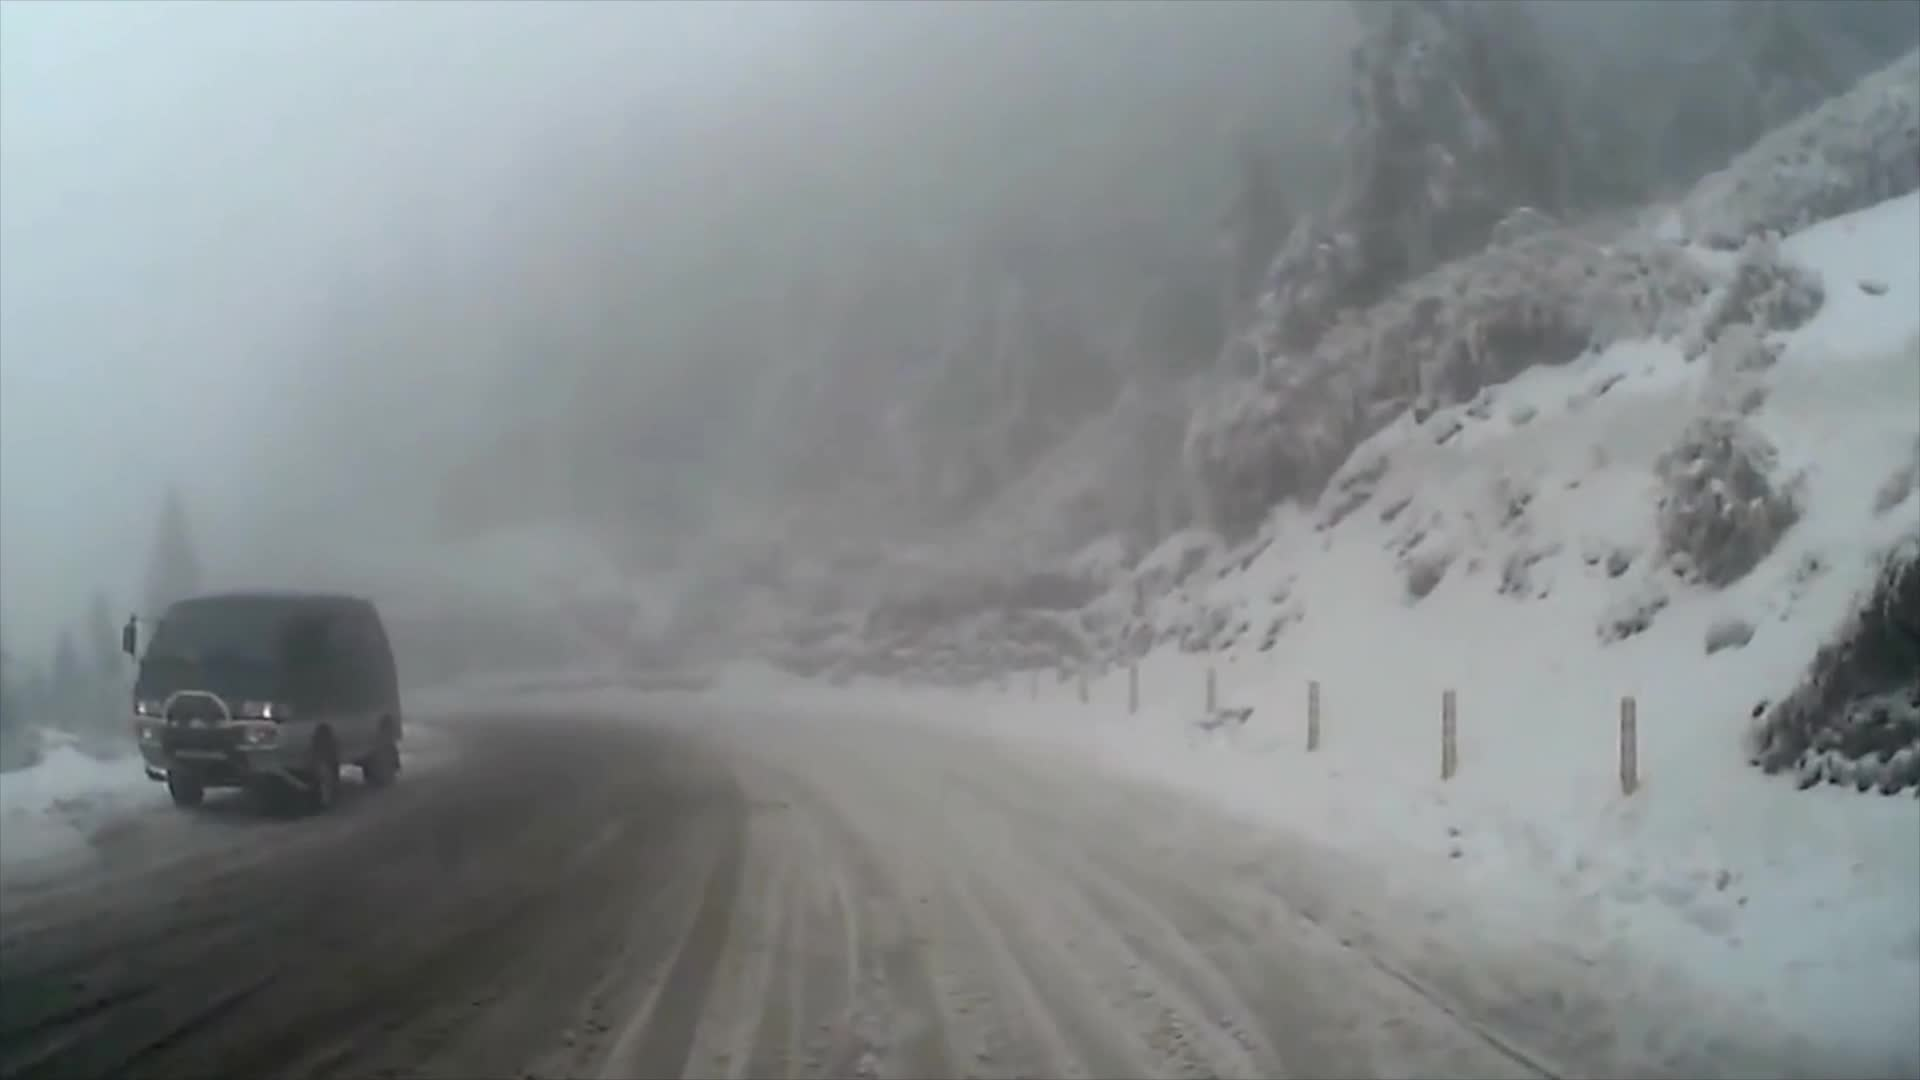vehicle: (120, 592, 405, 818)
